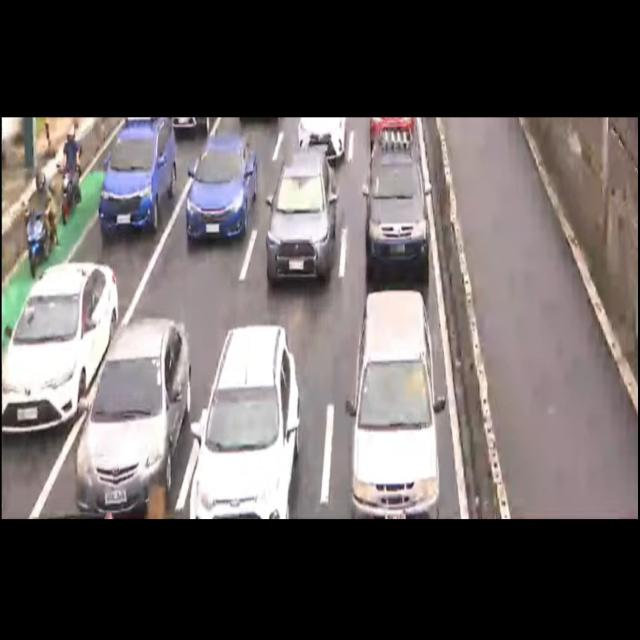Motorcycle: (24, 162, 56, 276), (57, 123, 82, 230)
SUV: (187, 328, 302, 520), (350, 295, 432, 513), (254, 150, 335, 276), (95, 124, 179, 235), (364, 156, 423, 264)
Sedan: (0, 254, 118, 439), (72, 326, 187, 514), (181, 134, 260, 238)
